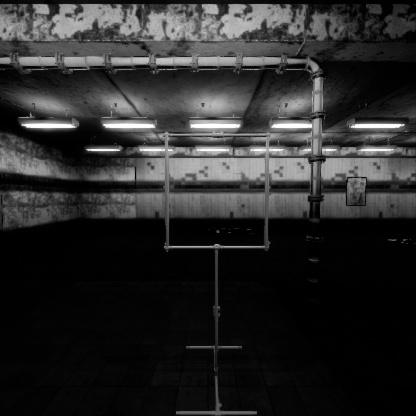gate: (164, 165, 279, 282)
